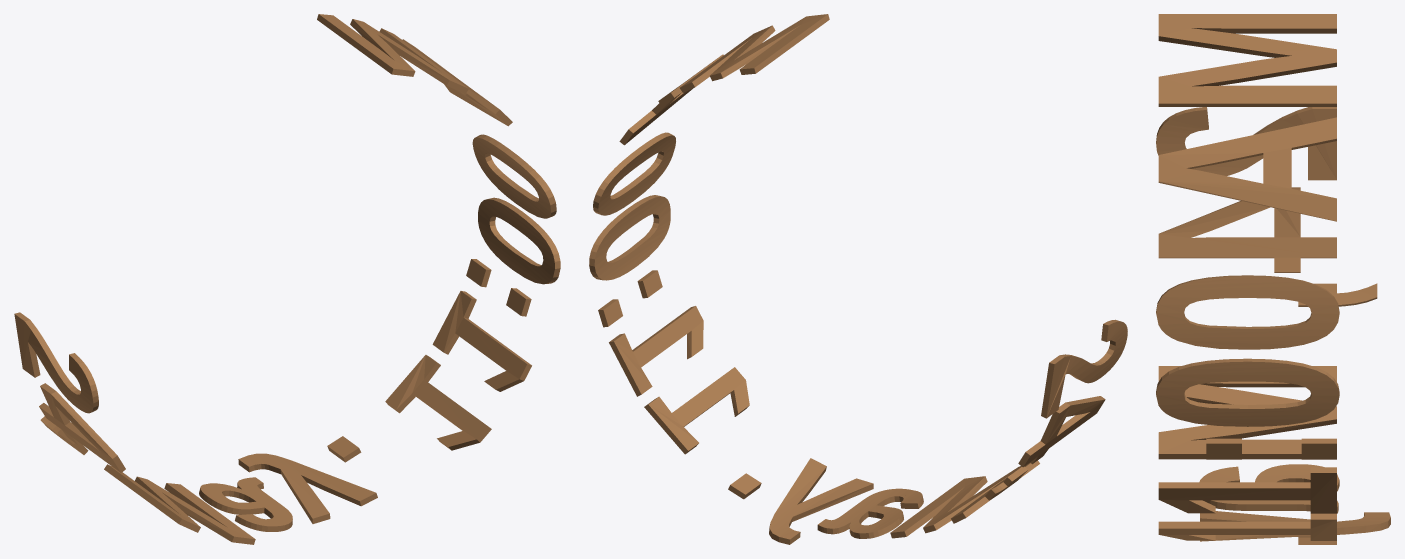
The model's file is tinker.obj.
The picture shows the model from 3 angles, left to right: view 1: azimuth 30°, elevation 25°; view 2: azimuth 150°, elevation 25°; view 3: azimuth 270°, elevation 25°; orthographic projection. The views are drawn at different scales.
Parts seen in each view (by area): view 1: obj_0; view 2: obj_0; view 3: obj_0.
Part boxes in pixels (x1,y1,x2,y2): obj_0: (14, 14, 560, 544); obj_0: (589, 14, 1127, 544); obj_0: (1156, 14, 1390, 544).
Bounding box in the file's own units: 42.63 × 39.17 × 15.46.
